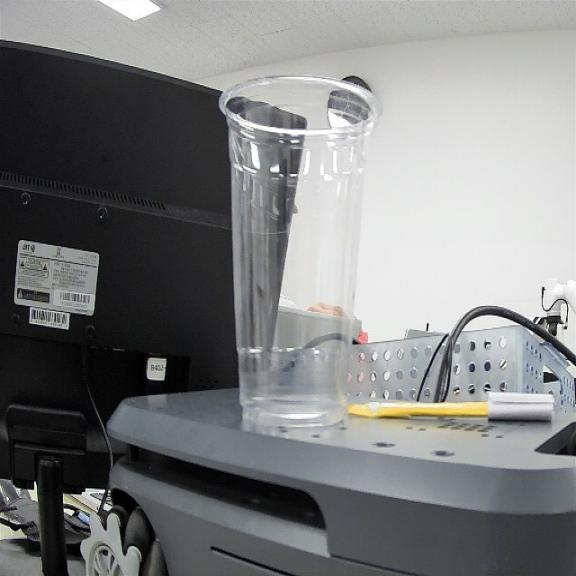Plastik: (219, 76, 379, 427)
